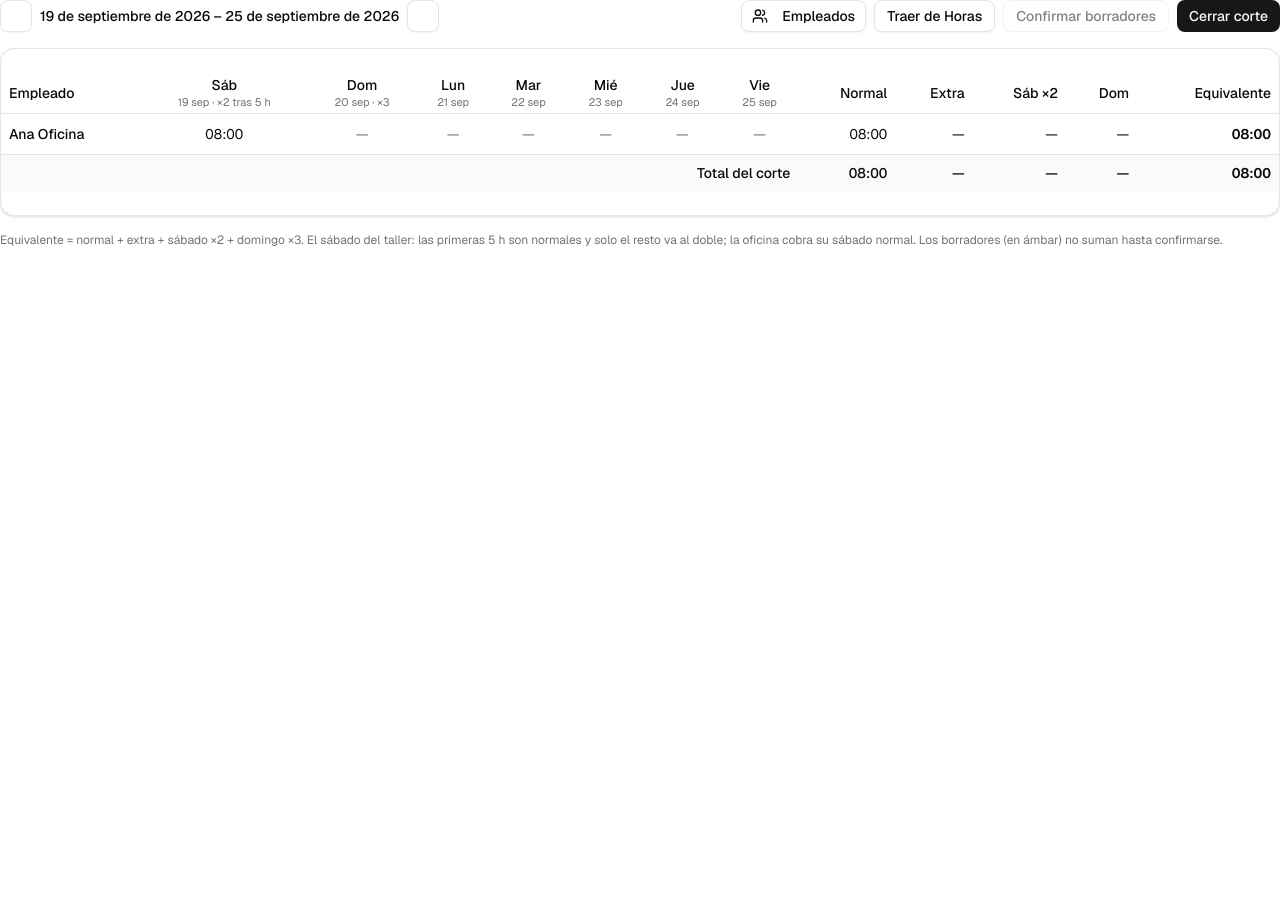
Test case: PayrollView › REGLA #135: alguien de oficina cobra su sábado normal, sin doble
What coordinates should you click on to do the following:
click the button named "Ana Oficina, Sáb"
I would click on:
 (224, 134)
Its box is top-left (145, 118), bottom-right (304, 150).
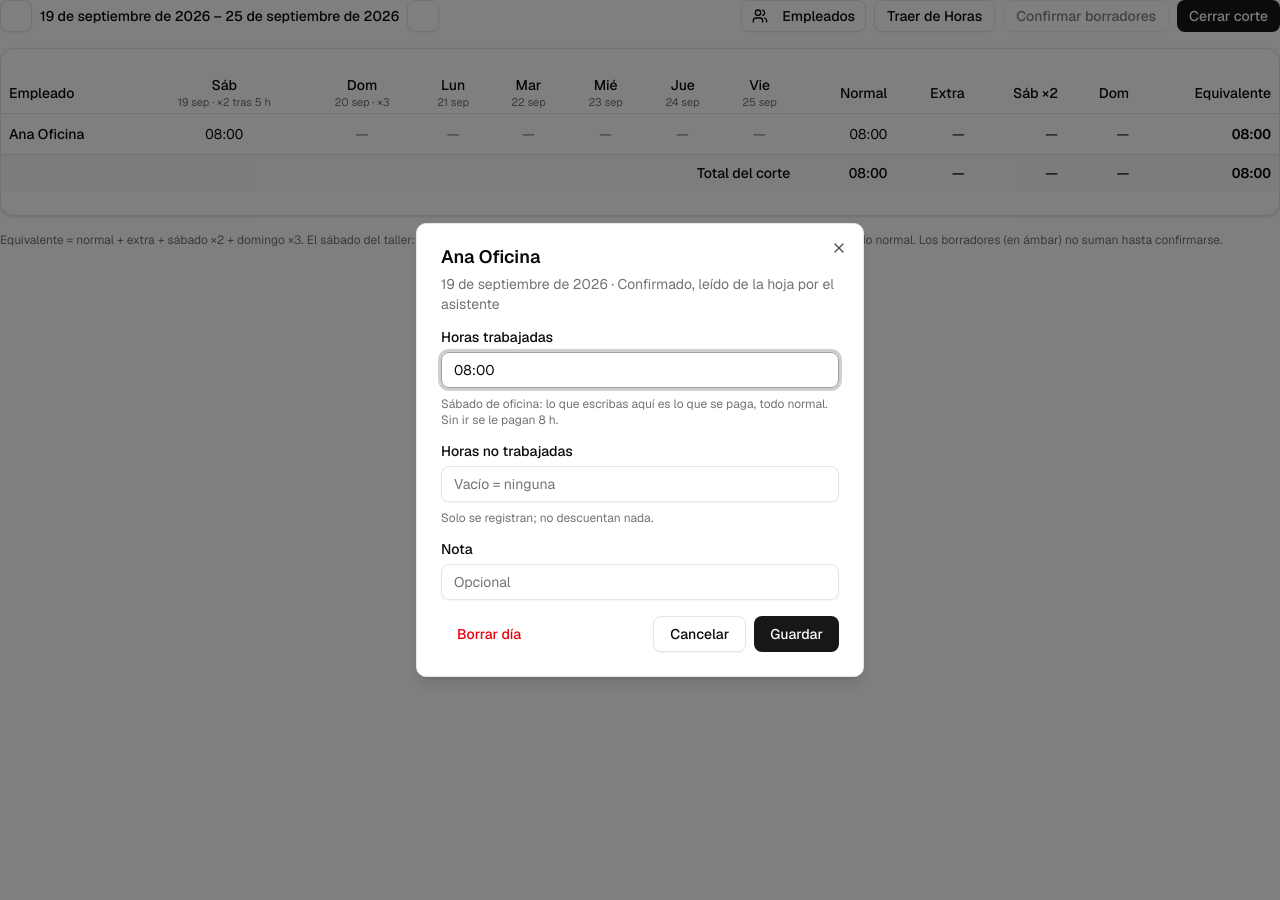
Expected: the text "Sábado de oficina: lo que escribas aquí es lo que se paga, todo normal. Sin ir se le pagan 8 h" is shown, top-left (441, 396), bottom-right (839, 428)
